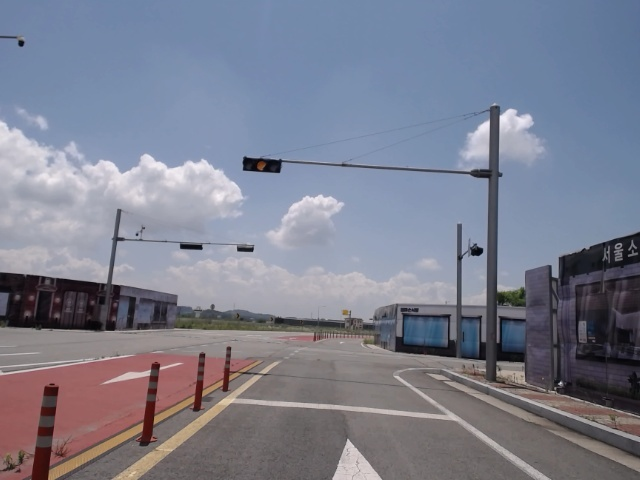orange_3: (243, 160, 281, 172)
